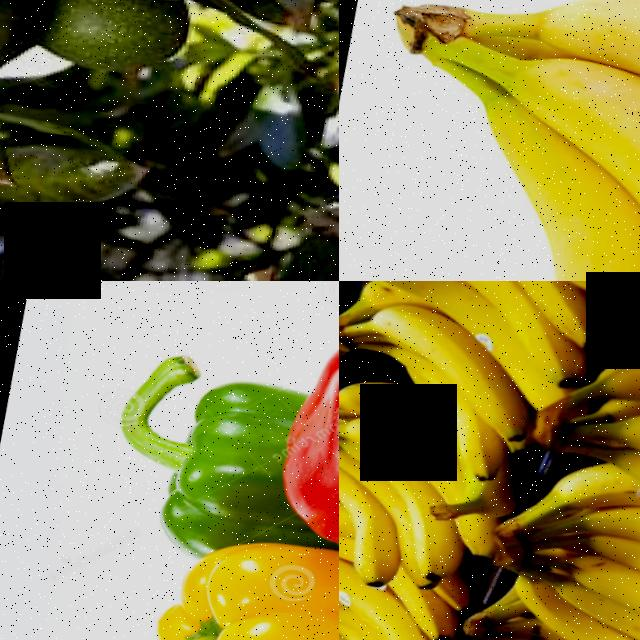avocado: (0, 0, 195, 104), (0, 0, 45, 94)
banana: (339, 0, 640, 281), (339, 282, 551, 462), (339, 376, 493, 601), (486, 462, 640, 640), (339, 281, 616, 338), (339, 522, 470, 640)
bell pepper: (90, 332, 298, 558), (128, 523, 339, 640), (267, 281, 339, 594)
